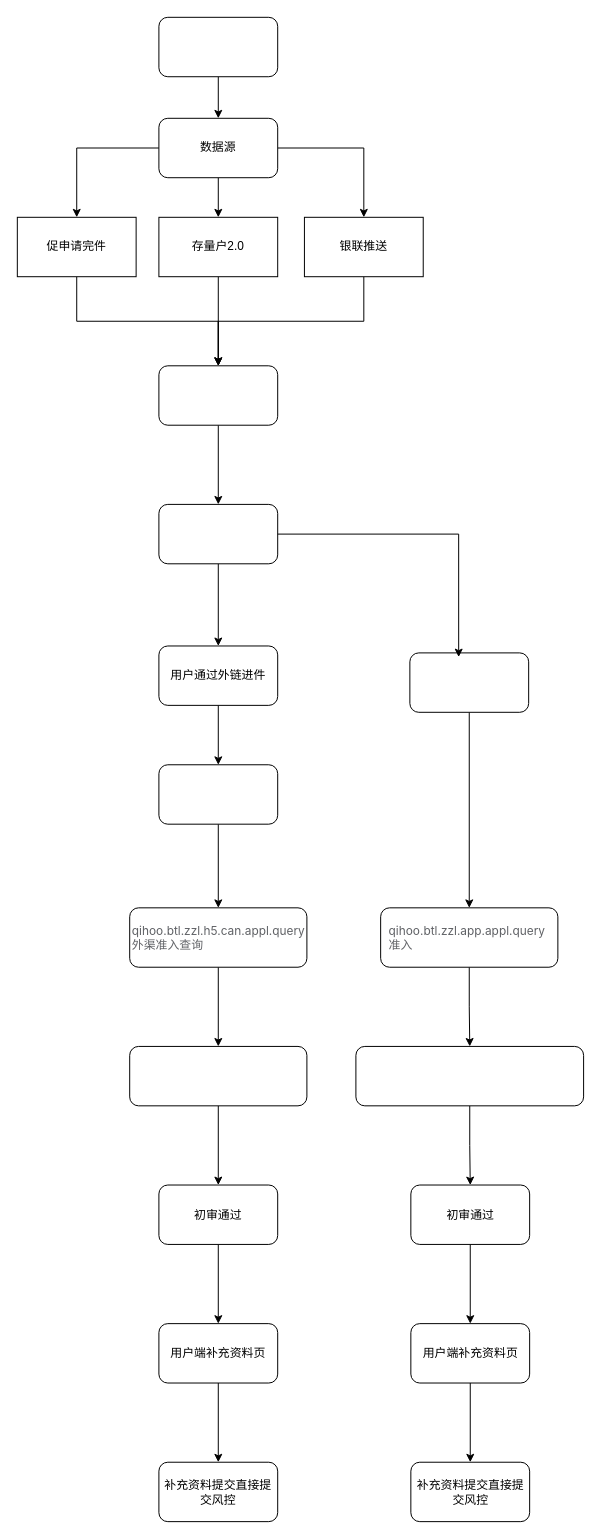
This 601x1539 diagram has some shape labels left out. Here are the shapes that lost their labels. From the top down, the centre of each, then its label:
point (218, 46): 开始
point (218, 395): 进入名单表
point (218, 533): 准入定时任务进行准入，给用户发送短信
point (469, 682): 用户通过APP进件
point (218, 794): 通过用户归属地自动分配虚拟BD
point (218, 1075): qihoo.sdk.appl.item.h5PlusCommit H5通用提交 外渠准入查询
point (469, 1075): qihoo.sdk.appl.item. Commit 通用提交 外渠准入查询
